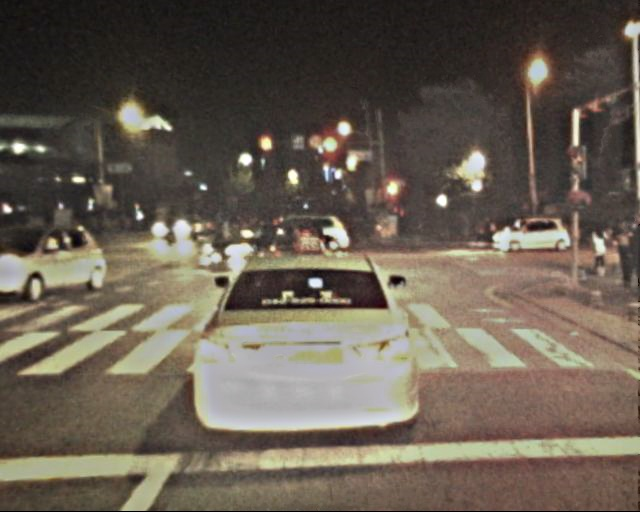person: (610, 217, 640, 291), (207, 207, 259, 238), (587, 222, 609, 276), (475, 216, 495, 242)
